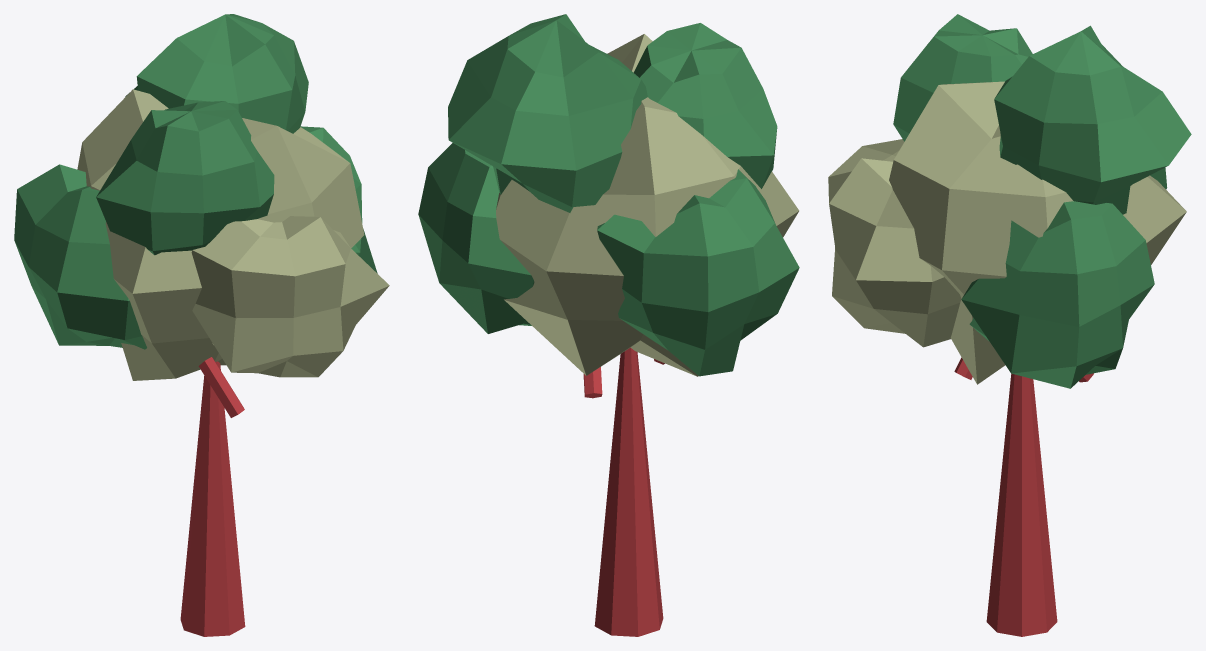
File: tree.glb
The picture shows the model from 3 angles, left to right: view 1: azimuth 30°, elevation 25°; view 2: azimuth 150°, elevation 25°; view 3: azimuth 270°, elevation 25°; orthographic projection. The views are drawn at different scales.
Visible parts, largest first — view 1: tree_crown3, tree_crown0, tree_crown5, tree_crown2, tree_crown4, tree, tree_crown1, tree_branch1; view 2: tree_crown0, tree_crown4, tree_crown2, tree_crown1, tree_crown5, tree; view 3: tree_crown0, tree_crown1, tree_crown4, tree_crown3, tree, tree_crown5.
Boxes of the visible parts, <box> form: tree_crown3: <box>191,216,389,377</box>; tree_crown0: <box>77,89,364,380</box>; tree_crown5: <box>96,101,274,255</box>; tree_crown2: <box>14,164,146,349</box>; tree_crown4: <box>125,14,308,133</box>; tree: <box>180,361,245,636</box>; tree_crown1: <box>300,126,377,273</box>; tree_branch1: <box>198,357,244,417</box>; tree_crown0: <box>496,34,799,376</box>; tree_crown4: <box>448,14,647,212</box>; tree_crown2: <box>597,169,799,376</box>; tree_crown1: <box>418,143,534,333</box>; tree_crown5: <box>633,23,777,188</box>; tree: <box>594,347,663,636</box>; tree_crown0: <box>889,81,1186,384</box>; tree_crown1: <box>961,201,1154,388</box>; tree_crown4: <box>994,25,1191,214</box>; tree_crown3: <box>828,139,961,347</box>; tree: <box>986,373,1057,636</box>; tree_crown5: <box>893,14,1032,141</box>.
Size of the model in its own units: 2.05 by 3.43 by 1.85.
